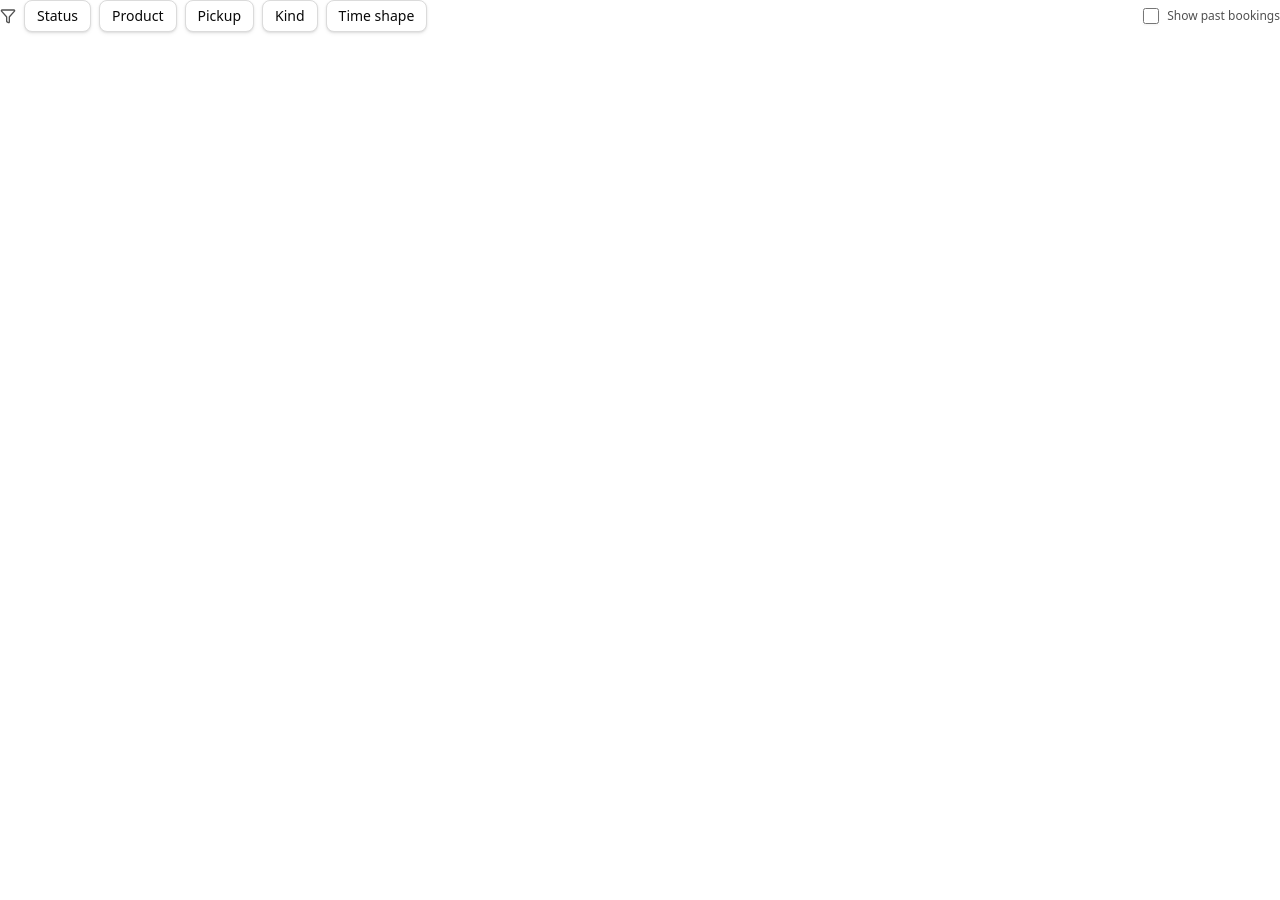
BookingsFilters › shows accurate count badges and disables empty enum chips
Click the button with test id "harness-kind-trigger": (290, 16) [262, 0, 318, 32]
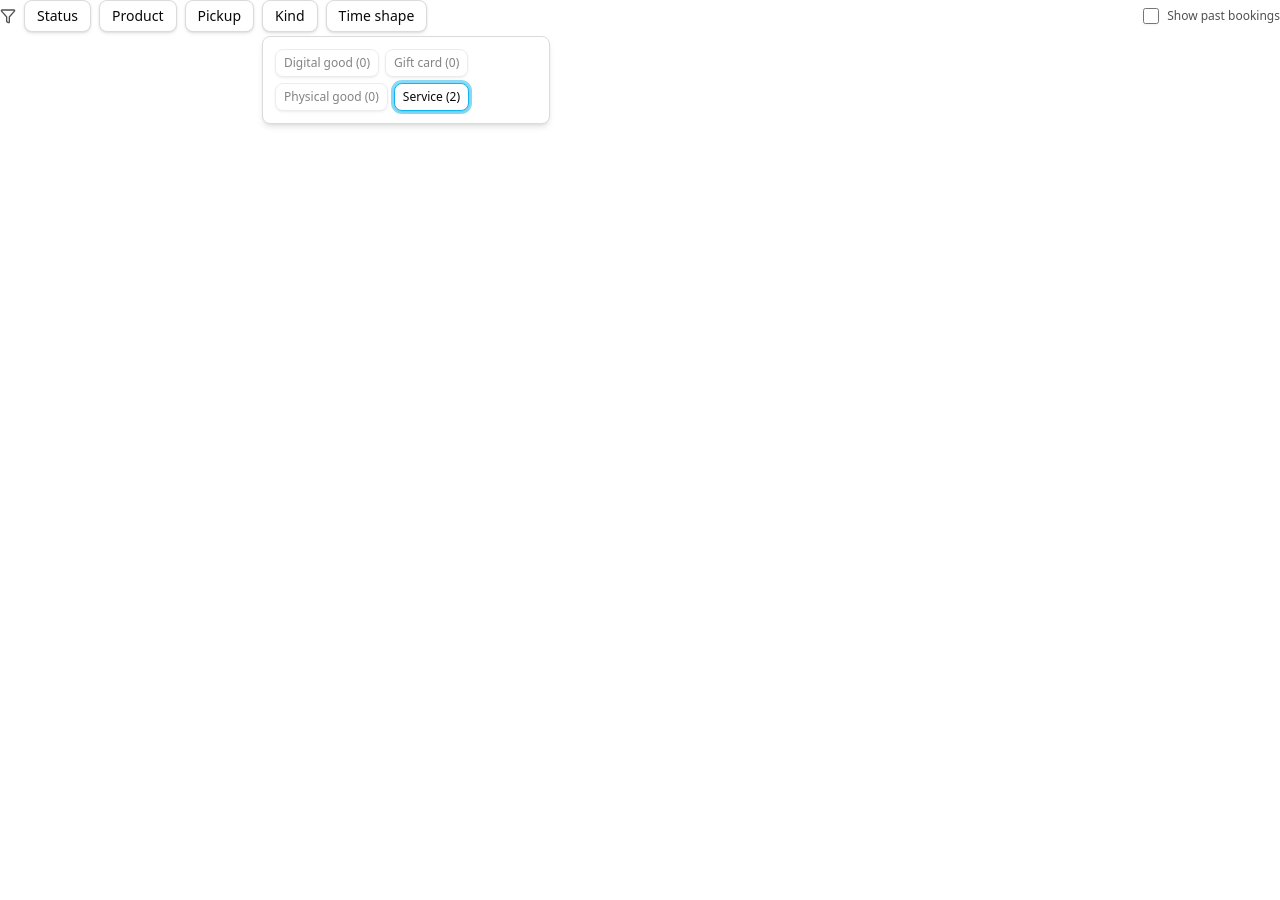
Check: the button with test id "harness-kind-option-service" reads "Service (2)", box [394, 83, 469, 111]
Check: the button with test id "harness-kind-option-service" is enabled, box [394, 83, 469, 111]
Check: the button with test id "harness-kind-option-gift_card" reads "Gift card (0)", box [385, 49, 468, 77]
